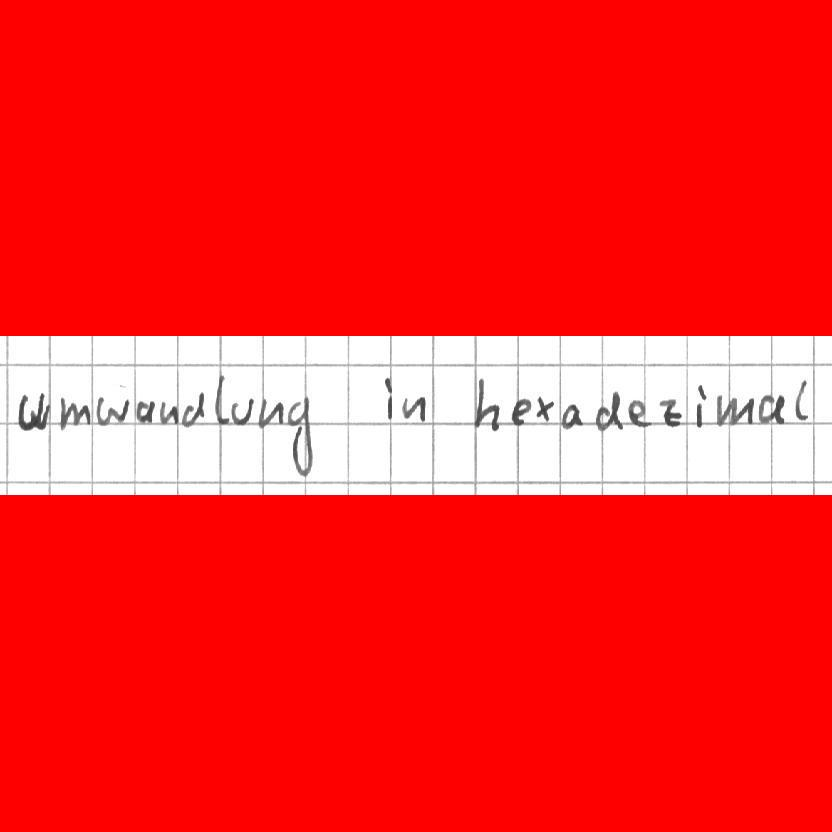Char: (284, 395, 314, 479), (473, 375, 504, 432), (15, 390, 53, 435), (713, 392, 756, 428), (57, 391, 92, 434), (596, 389, 626, 434), (94, 392, 132, 425), (756, 392, 788, 428), (179, 389, 206, 428), (656, 396, 686, 430), (401, 392, 430, 424), (257, 396, 284, 429), (213, 374, 230, 426), (626, 398, 653, 430), (793, 379, 811, 423), (559, 401, 584, 431), (533, 393, 557, 424), (509, 395, 531, 427), (231, 395, 254, 425), (135, 397, 157, 426), (383, 374, 396, 422), (158, 399, 180, 426), (695, 383, 707, 428)
